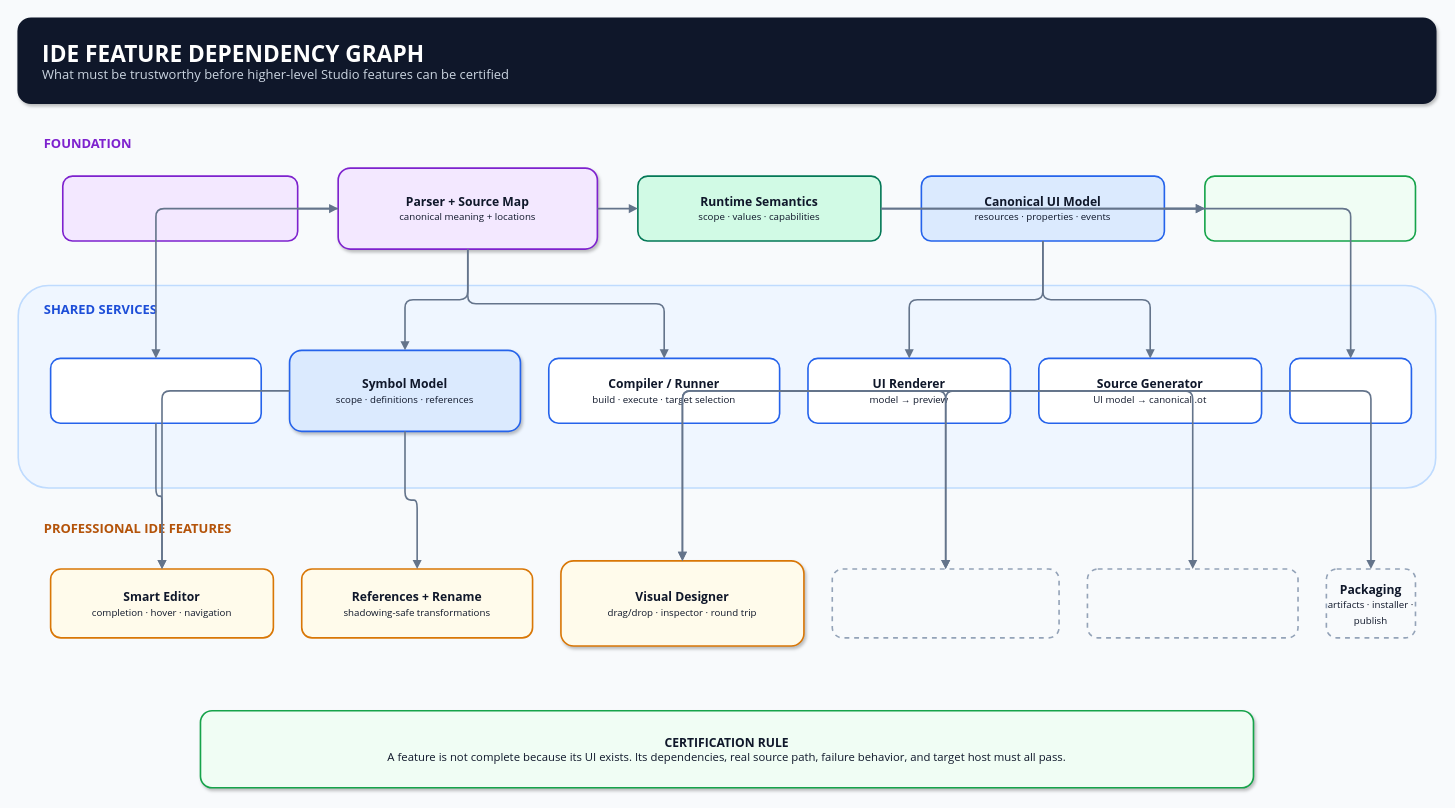
Some shapes in this 1455 by 808 pixel diagram are drawn without their labels. The centre of each missing label's shape, as x and y in pixels:
Conformance Harness real source + real entry points: point (1310, 208)
Debugger breakpoints · stepping · variables: point (945, 603)
Diagnostics errors · source lines · fixes: point (155, 390)
Process / PTY streams · exit · signals: point (1350, 390)
Test Explorer discover · run · report: point (1192, 603)
Versioned Contract tokens · AST · diagnostics: point (180, 208)
